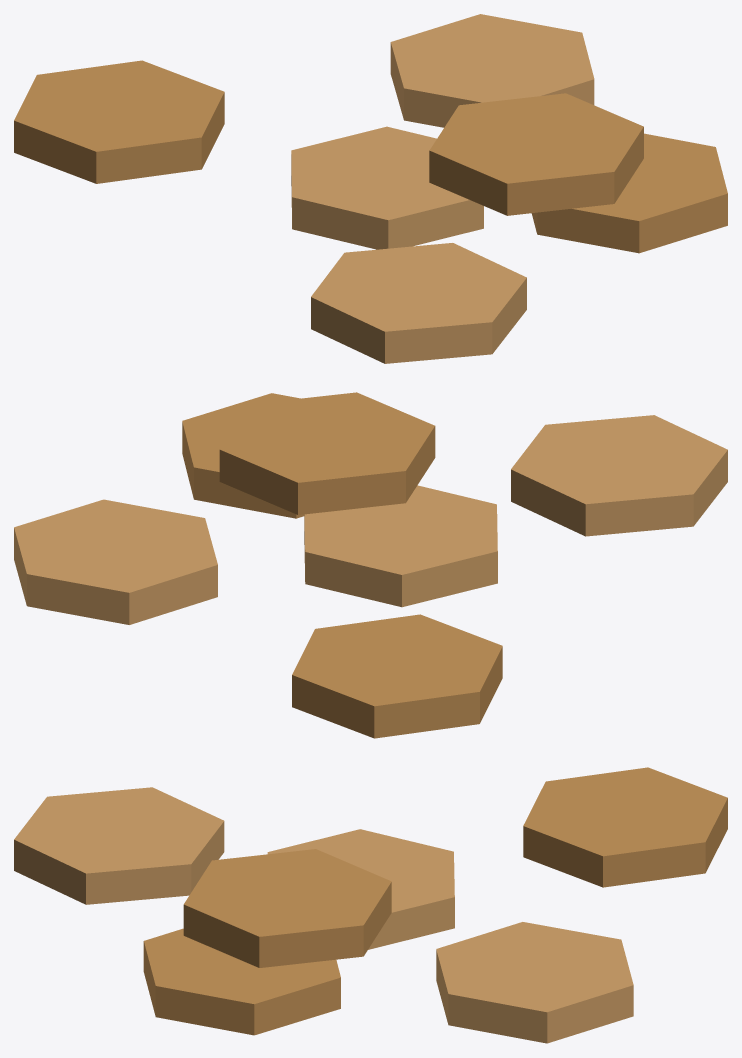
The model's file is Prop_Coin_Pile_02.glb.
The picture shows the model from 3 angles, top to bottom: view 1: azimuth 30°, elevation 25°; view 2: azimuth 150°, elevation 25°; view 3: azimuth 270°, elevation 25°; orthographic projection. The views are drawn at different scales.
Visible parts, largest first — view 1: SM_Gen_Prop_Coin_Pile_02; view 2: SM_Gen_Prop_Coin_Pile_02; view 3: SM_Gen_Prop_Coin_Pile_02.
Part boxes in pixels (x1,y1,x2,y2): SM_Gen_Prop_Coin_Pile_02: (14,14,727,363); SM_Gen_Prop_Coin_Pile_02: (14,392,727,738); SM_Gen_Prop_Coin_Pile_02: (14,767,727,1043).
Bounding box in the file's own units: 0.3326 × 0.0416 × 0.4097.
Materials: 1 (1 with a texture image).
